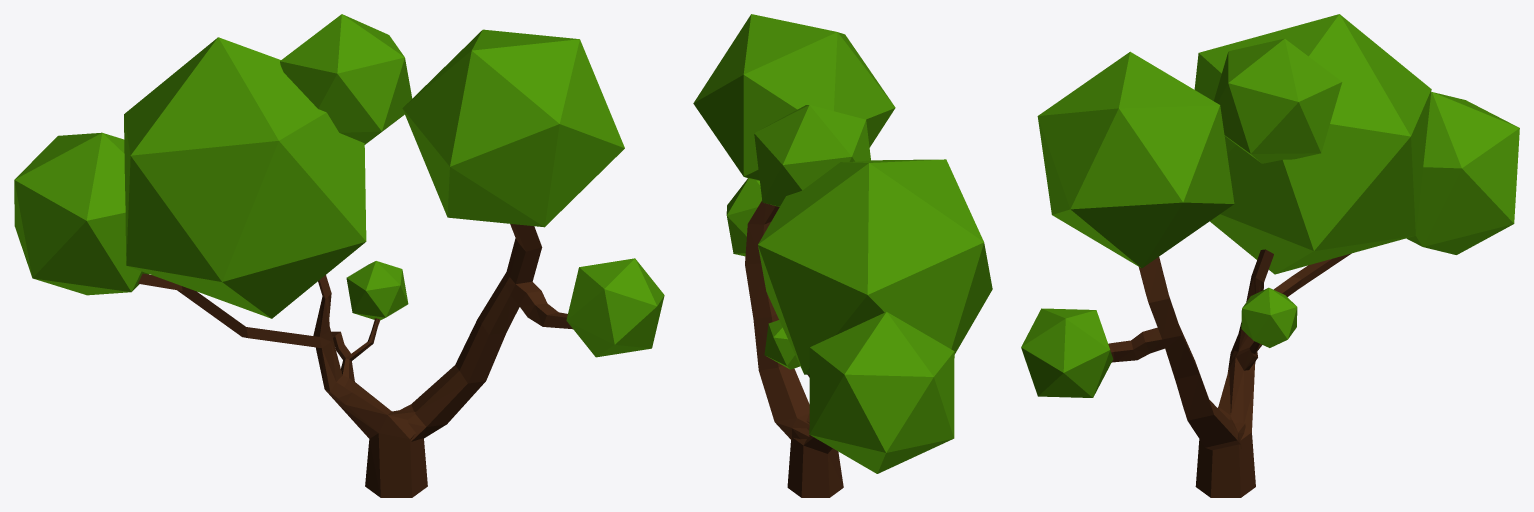
The model's file is Tree.fbx.
3 views of the same model, side by side, from view 1: azimuth 30°, elevation 25°; view 2: azimuth 150°, elevation 25°; view 3: azimuth 270°, elevation 25° (orthographic). The views are drawn at different scales.
Visible parts, largest first — view 1: Icosphere.002, Icosphere.001, Cylinder, Icosphere.004, Icosphere.003, Icosphere, Icosphere.005; view 2: Icosphere.002, Icosphere.004, Icosphere.001, Cylinder, Icosphere.003, Icosphere, Icosphere.005; view 3: Icosphere.002, Icosphere.001, Cylinder, Icosphere.004, Icosphere.003, Icosphere, Icosphere.005.
Part boxes in pixels (<box>): Icosphere.002: <box>124,37,366,318</box>; Icosphere.001: <box>402,29,624,227</box>; Cylinder: <box>138,224,572,497</box>; Icosphere.004: <box>14,132,148,295</box>; Icosphere.003: <box>280,14,412,144</box>; Icosphere: <box>566,258,664,357</box>; Icosphere.005: <box>346,261,408,320</box>; Icosphere.002: <box>758,159,992,374</box>; Icosphere.004: <box>809,312,954,473</box>; Icosphere.001: <box>693,14,895,180</box>; Cylinder: <box>745,200,843,497</box>; Icosphere.003: <box>754,105,870,206</box>; Icosphere: <box>726,178,761,256</box>; Icosphere.005: <box>764,320,799,369</box>; Icosphere.002: <box>1194,14,1431,274</box>; Icosphere.001: <box>1037,51,1234,268</box>; Cylinder: <box>1108,249,1351,497</box>; Icosphere.004: <box>1406,92,1519,254</box>; Icosphere.003: <box>1214,38,1342,163</box>; Icosphere: <box>1021,308,1113,397</box>; Icosphere.005: <box>1241,287,1297,347</box>.
Bounding box in the file's own units: 1627 × 1636 × 1654.
